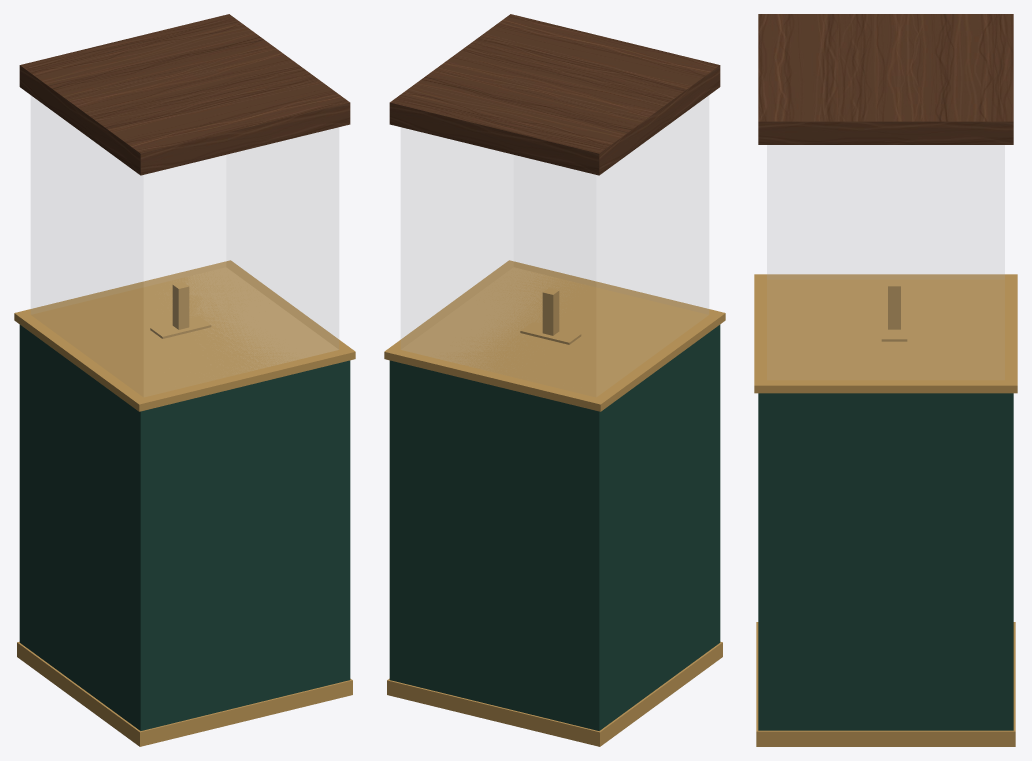
File: Atelier_Vitrine_2.glb
The picture shows the model from 3 angles, left to right: view 1: azimuth 30°, elevation 25°; view 2: azimuth 150°, elevation 25°; view 3: azimuth 270°, elevation 25°; orthographic projection. The views are drawn at different scales.
Parts seen in each view (by area): view 1: Atelier_Vitrine_2_Green_Panels, Atelier_Vitrine_2_Glass, Atelier_Vitrine_2_Brass, Atelier_Vitrine_2_Walnut; view 2: Atelier_Vitrine_2_Green_Panels, Atelier_Vitrine_2_Glass, Atelier_Vitrine_2_Brass, Atelier_Vitrine_2_Walnut; view 3: Atelier_Vitrine_2_Green_Panels, Atelier_Vitrine_2_Brass, Atelier_Vitrine_2_Walnut, Atelier_Vitrine_2_Glass.
Part boxes in pixels (box(x1,y1,x2,y2)): Atelier_Vitrine_2_Green_Panels: box(19, 324, 350, 730); Atelier_Vitrine_2_Glass: box(31, 96, 338, 376); Atelier_Vitrine_2_Brass: box(14, 260, 355, 746); Atelier_Vitrine_2_Walnut: box(19, 14, 350, 175); Atelier_Vitrine_2_Green_Panels: box(389, 324, 720, 730); Atelier_Vitrine_2_Glass: box(401, 96, 708, 371); Atelier_Vitrine_2_Brass: box(384, 260, 725, 746); Atelier_Vitrine_2_Walnut: box(389, 14, 720, 175); Atelier_Vitrine_2_Green_Panels: box(758, 393, 1013, 730); Atelier_Vitrine_2_Brass: box(754, 274, 1017, 746); Atelier_Vitrine_2_Walnut: box(758, 14, 1013, 144); Atelier_Vitrine_2_Glass: box(767, 145, 1004, 279).
Bounding box in the file's own units: 0.62 × 1.62 × 0.62.
5 materials, 1 textured.
